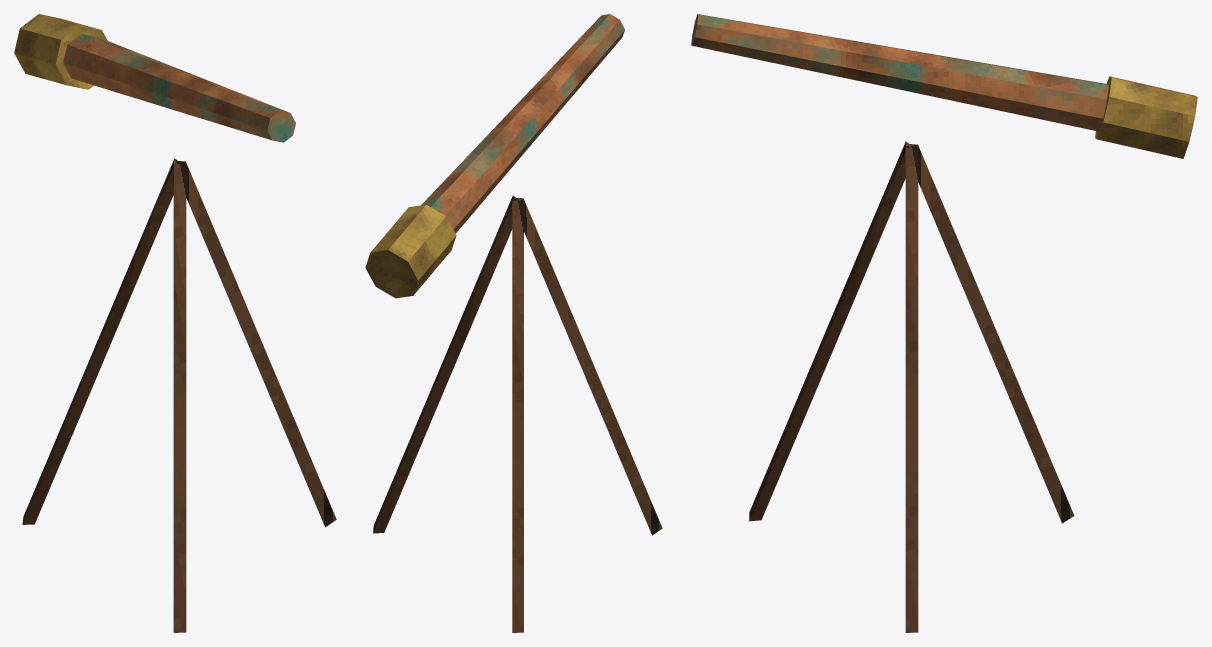
Rendered from telescopio.obj.
The picture shows the model from 3 angles, left to right: view 1: azimuth 30°, elevation 25°; view 2: azimuth 150°, elevation 25°; view 3: azimuth 270°, elevation 25°; orthographic projection. The views are drawn at different scales.
Visible parts, largest first — view 1: telescopio; view 2: telescopio; view 3: telescopio.
Part boxes in pixels (x1=…): telescopio: x1=14, y1=14, x2=336, y2=632; telescopio: x1=365, y1=14, x2=662, y2=632; telescopio: x1=691, y1=14, x2=1197, y2=632.
Bounding box in the file's own units: 0.6637 × 1.4 × 1.18.
3 materials, 3 textured.
